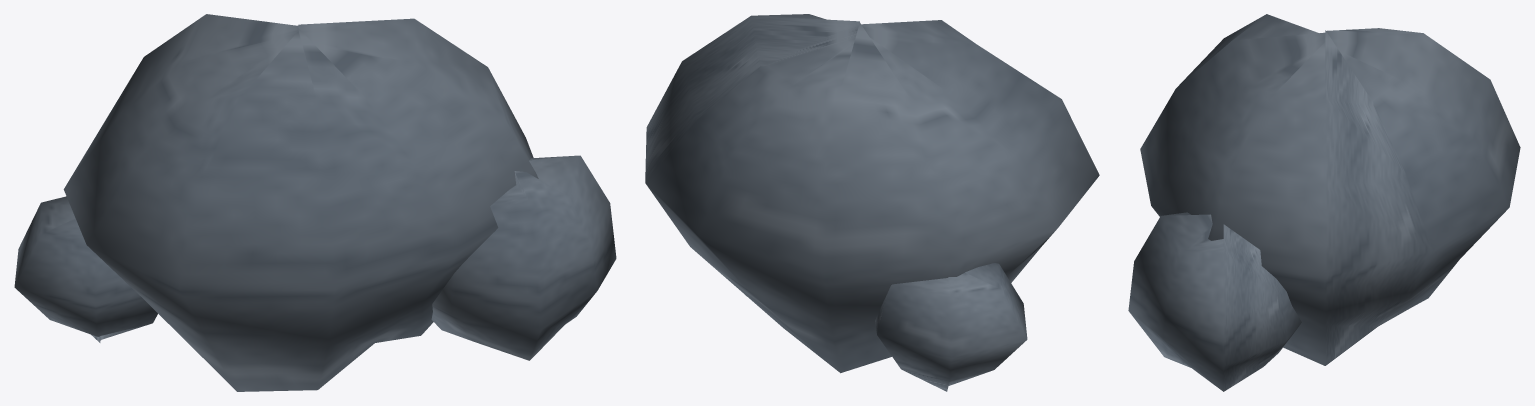
The model's file is prop_boulder.glb.
The picture shows the model from 3 angles, left to right: view 1: azimuth 30°, elevation 25°; view 2: azimuth 150°, elevation 25°; view 3: azimuth 270°, elevation 25°; orthographic projection. The views are drawn at different scales.
Parts seen in each view (by area): view 1: prop_boulder; view 2: prop_boulder; view 3: prop_boulder.
Boxes of the visible parts, box(x1,y1,x2,y2) form: prop_boulder: box(14, 14, 616, 391); prop_boulder: box(645, 14, 1099, 391); prop_boulder: box(1128, 14, 1520, 391).
Size of the model in its own units: 0.3399 by 0.22 by 0.2666.
1 material, 1 textured.
